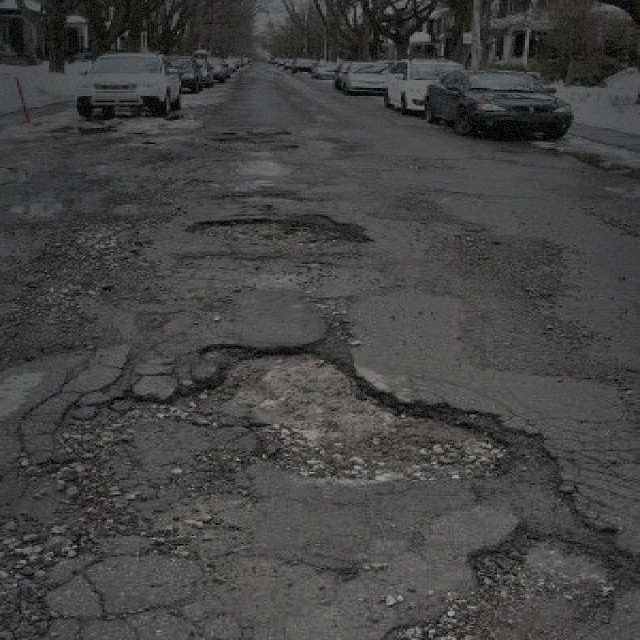pothole: (162, 333, 525, 480), (463, 526, 625, 608), (181, 214, 367, 253)
